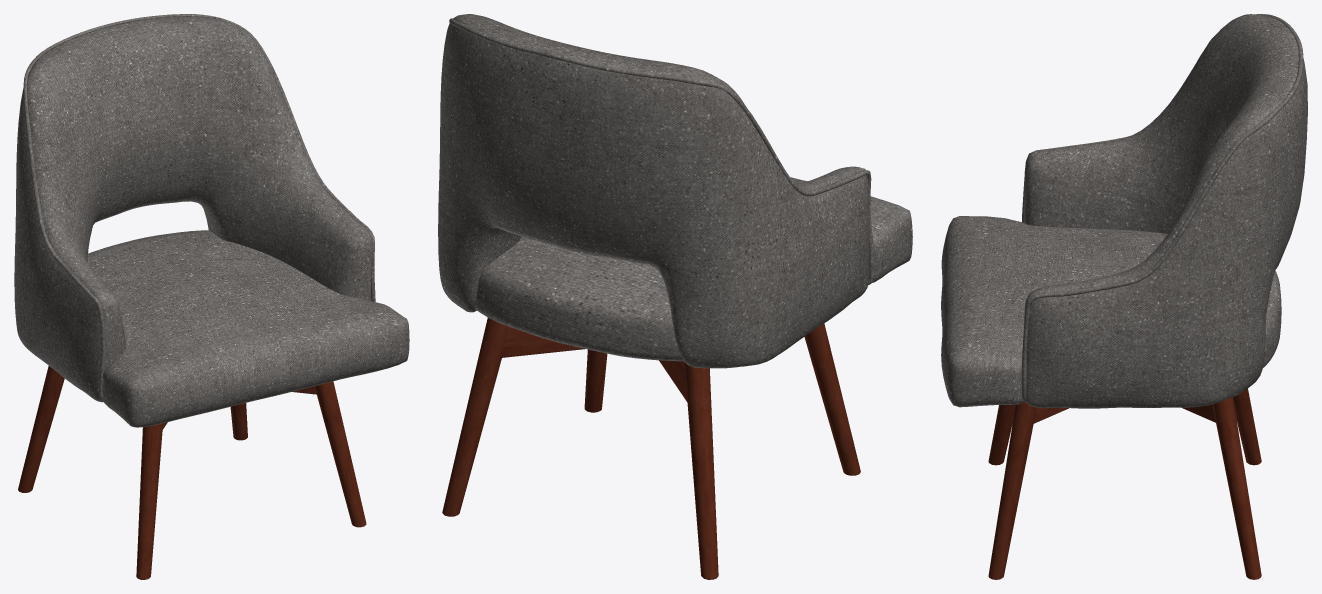
The model's file is abo-B075Z8M22B.glb.
The picture shows the model from 3 angles, left to right: view 1: azimuth 30°, elevation 25°; view 2: azimuth 150°, elevation 25°; view 3: azimuth 270°, elevation 25°; orthographic projection. The views are drawn at different scales.
Bounding box in the file's own units: 0.629 × 0.875 × 0.629.
Materials: 1 (1 with a texture image).
